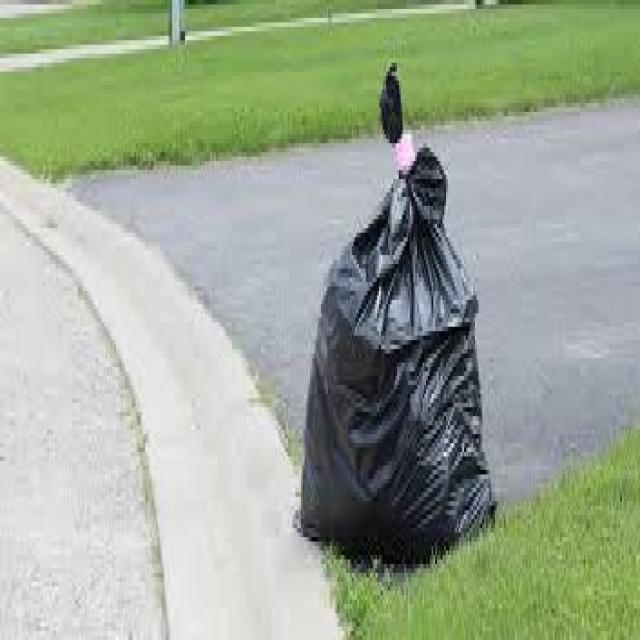garbage: (296, 90, 484, 538)
